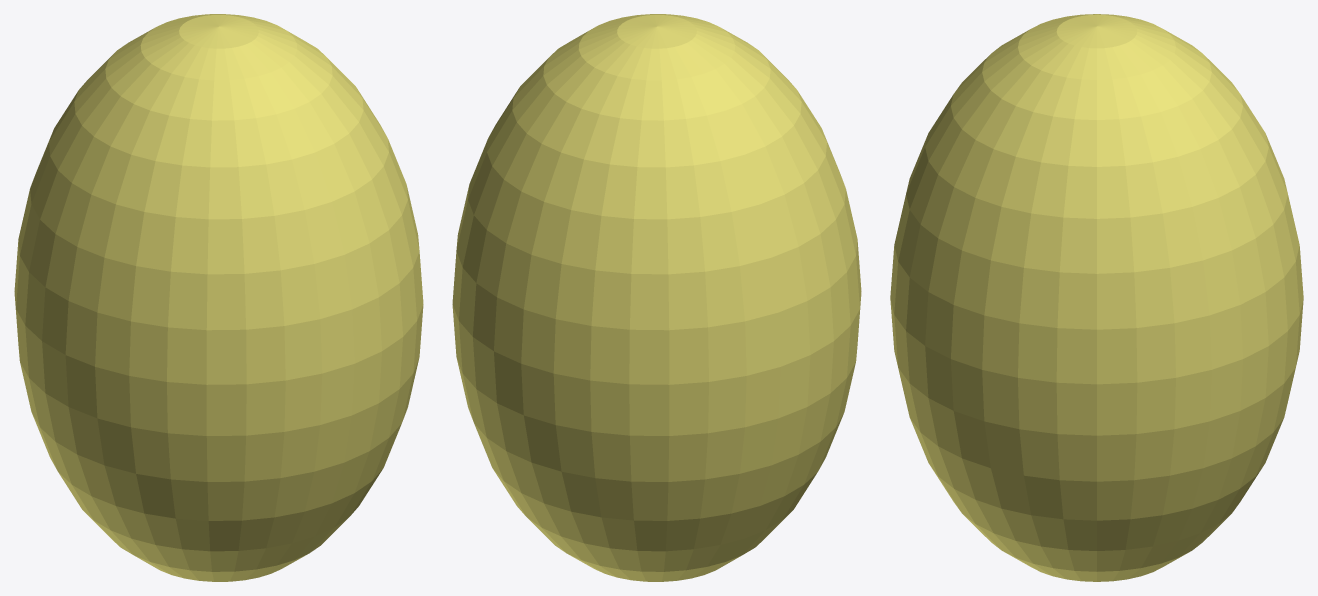
File: Egg.glb
3 views of the same model, side by side, from view 1: azimuth 30°, elevation 25°; view 2: azimuth 150°, elevation 25°; view 3: azimuth 270°, elevation 25° (orthographic).
Visible parts, largest first — view 1: Sphere; view 2: Sphere; view 3: Sphere.
Boxes of the visible parts, x1,y1,x2,y2 form: Sphere: (14,14,423,581); Sphere: (452,14,861,581); Sphere: (890,14,1303,581).
Bounding box in the file's own units: 2.45 × 3.59 × 2.48.
